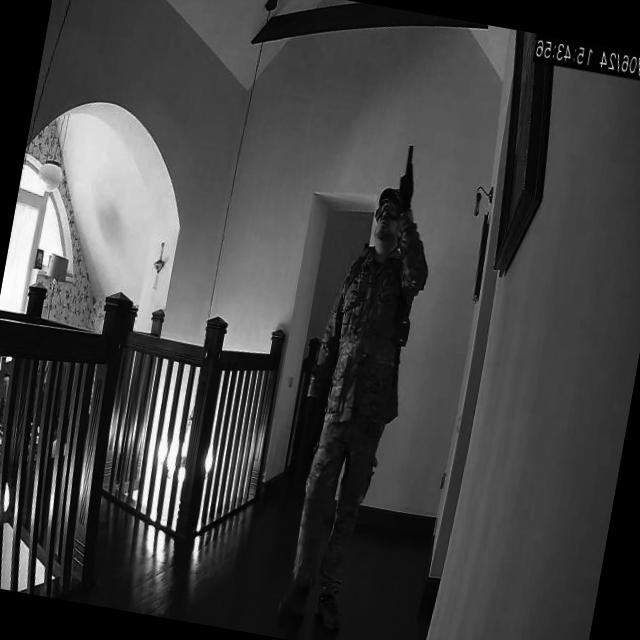gun: (397, 141, 422, 198)
person with a gun: (266, 176, 439, 638)
